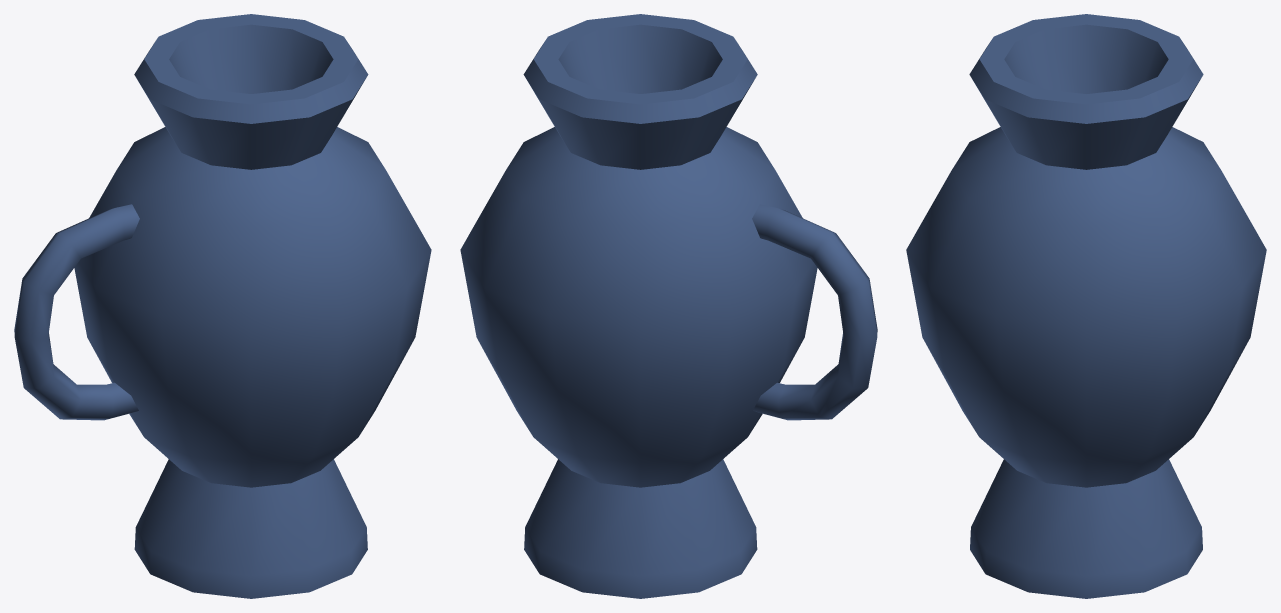
Rendered from Pot_Water_A.fbx.
3 renders of one model, left to right at view 1: azimuth 30°, elevation 25°; view 2: azimuth 150°, elevation 25°; view 3: azimuth 270°, elevation 25°, orthographic.
Visible parts, largest first — view 1: Pot_Water_A; view 2: Pot_Water_A; view 3: Pot_Water_A.
Boxes of the visible parts, box(x1,y1,x2,y2) form: Pot_Water_A: box(14, 14, 431, 598); Pot_Water_A: box(460, 14, 877, 598); Pot_Water_A: box(906, 14, 1266, 598).
Size of the model in its own units: 59.02 by 70.42 by 46.92.
